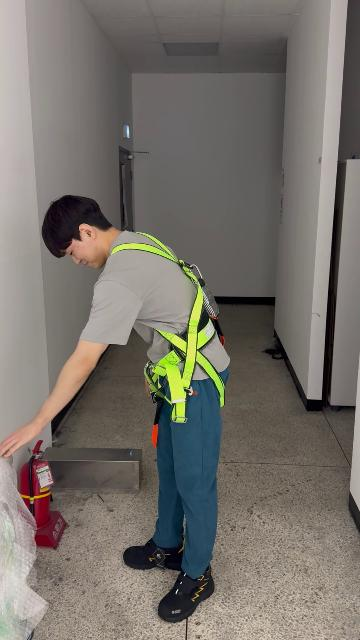helmet_not_worn: (41, 193, 113, 261)
shoe_worn: (157, 564, 215, 622), (123, 535, 184, 569)
vest_worn: (114, 239, 226, 415)
